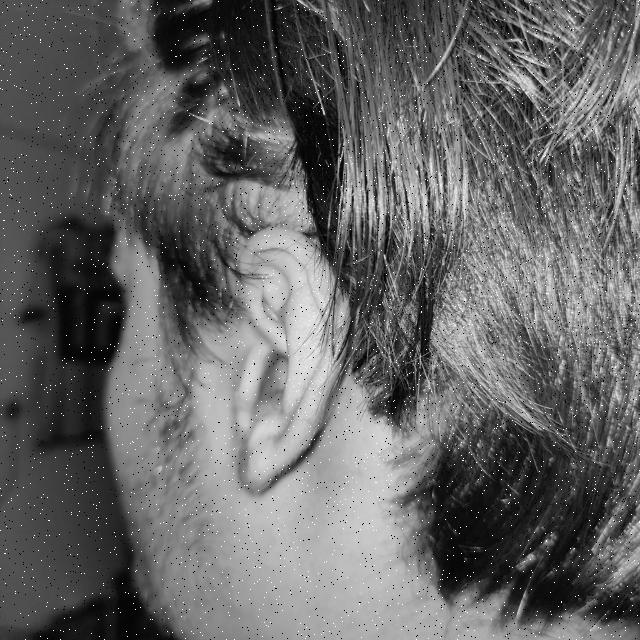ear: (233, 228, 347, 492), (337, 294, 339, 294)
